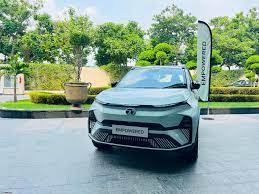Tata Nexon: (85, 63, 205, 167)
